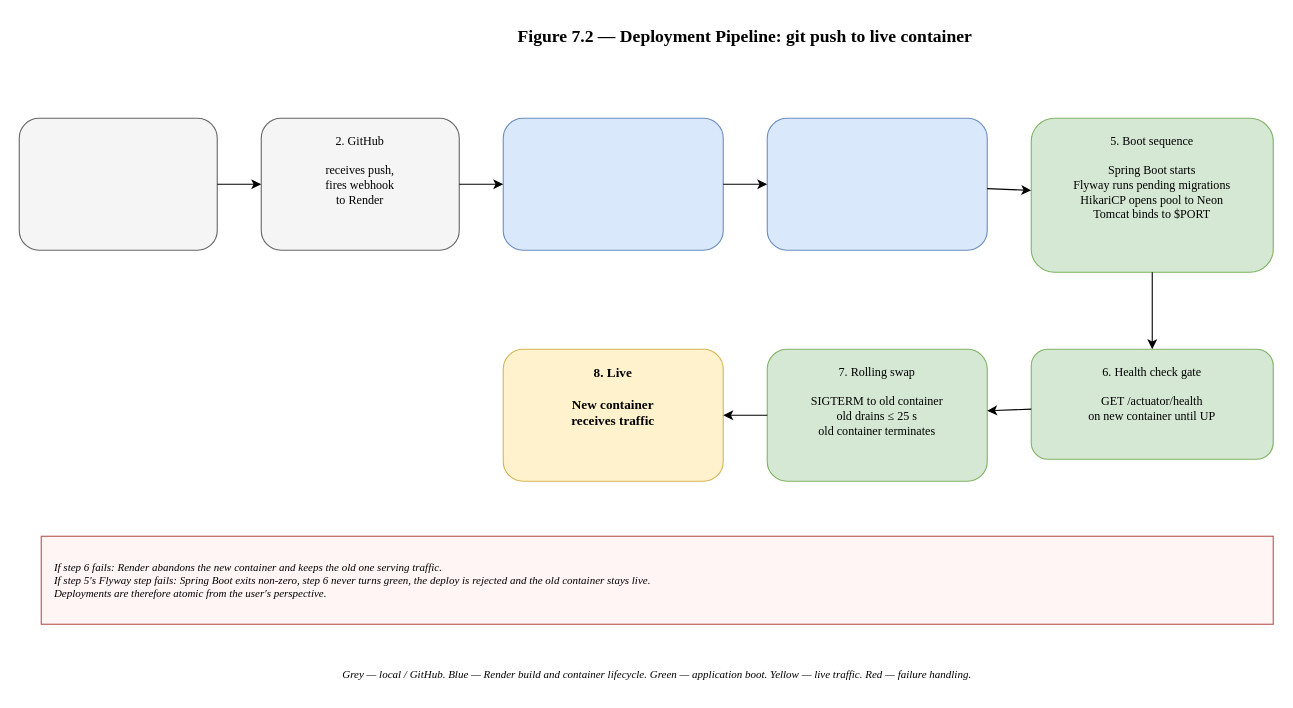
Some shapes in this 1293 by 708 pixel diagram are drawn without their labels. Here are the shapes that lost their labels. From the top down, the centre of each, then its label:
pixel 117 183: 1. Local commit git push origin main
pixel 612 183: 3. Render build clone at commit docker build . push image to registry
pixel 876 183: 4. Start new container pull image, inject env vars, exec ENTRYPOINT
